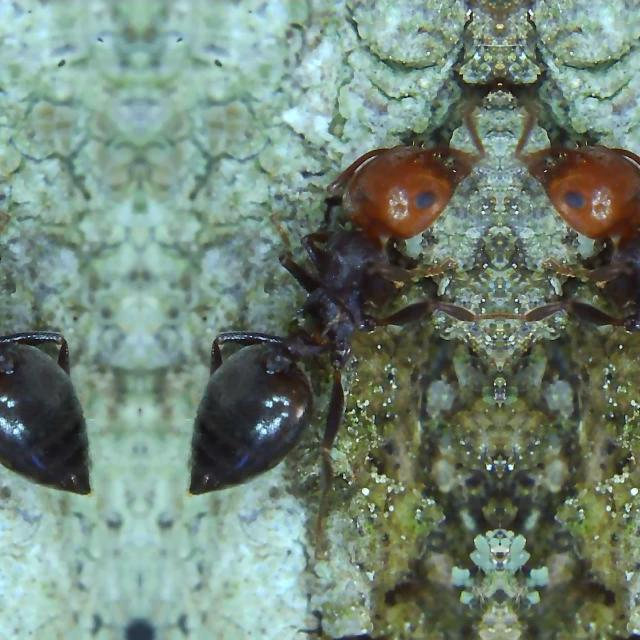Crematogaster: (164, 130, 466, 512), (0, 129, 116, 512), (534, 129, 640, 512)
